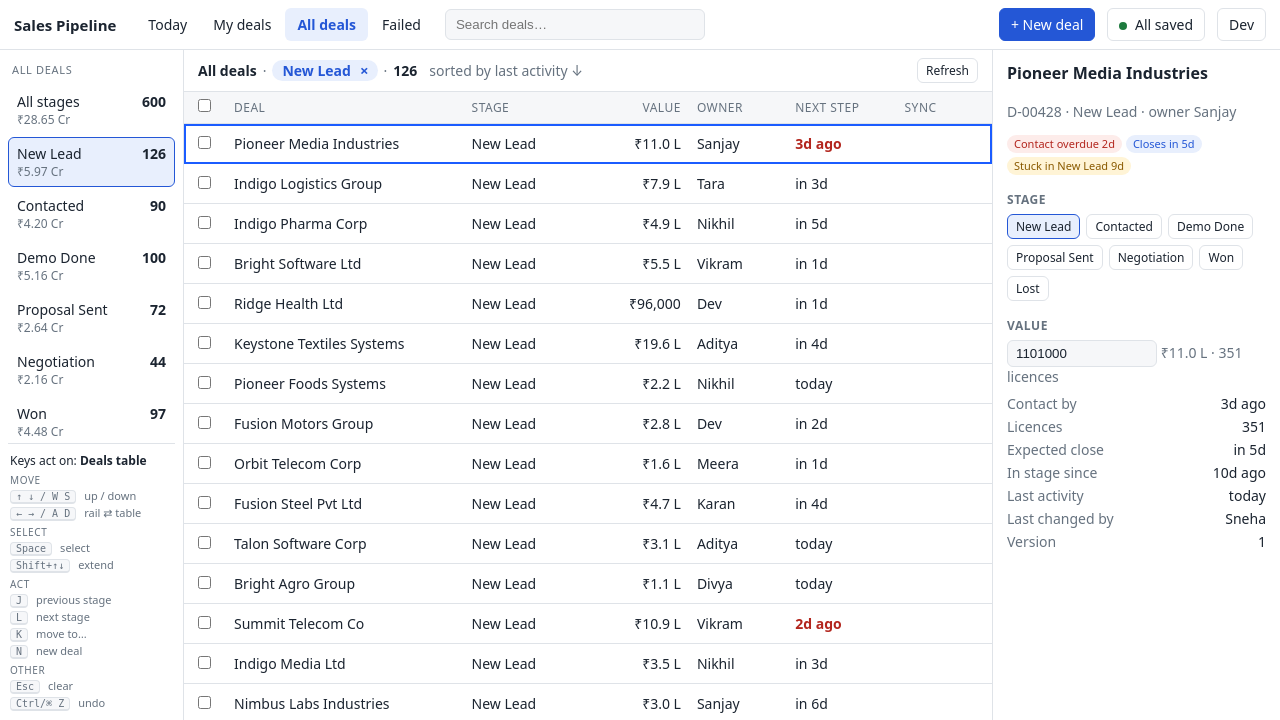
Test case: grid accessibility and keyboard › keys keep working after the mouse › typing "wasd" (and every other shortcut letter) in the search box changes nothing in the table
Click the search field with placeholder "Search deals…": (575, 24) [445,9,705,40]
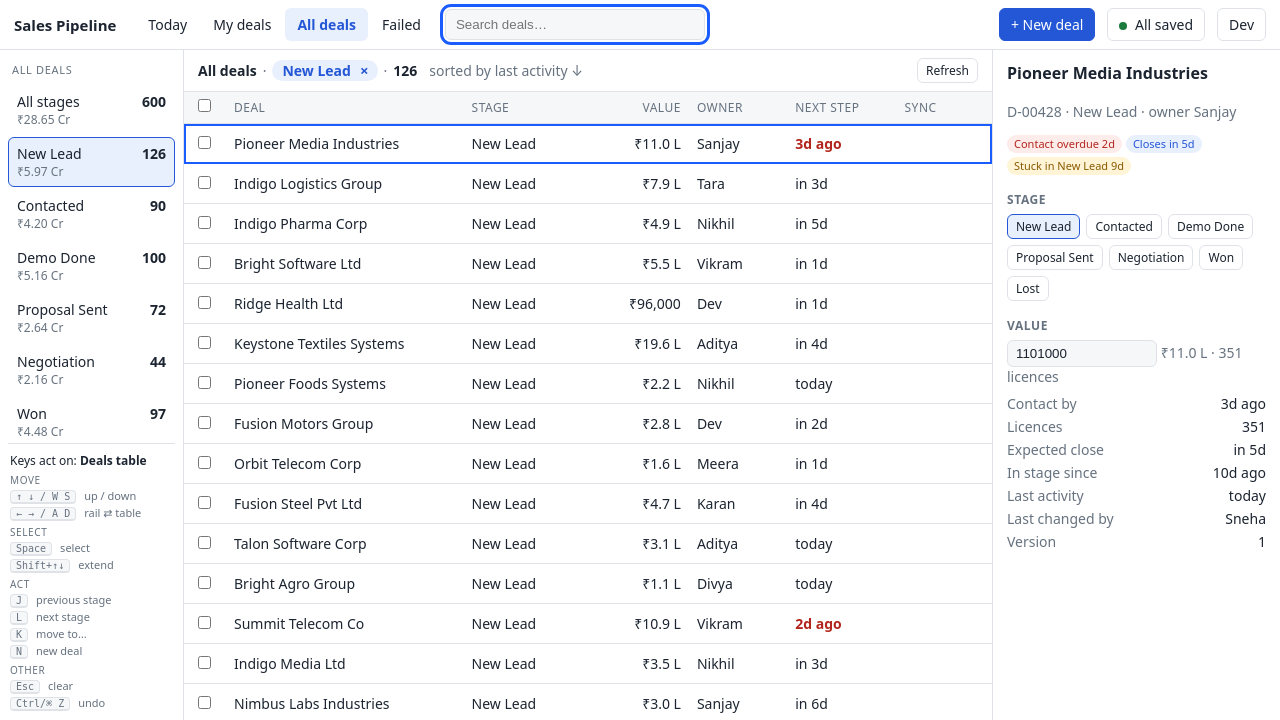
Type keys "wasdnljk "
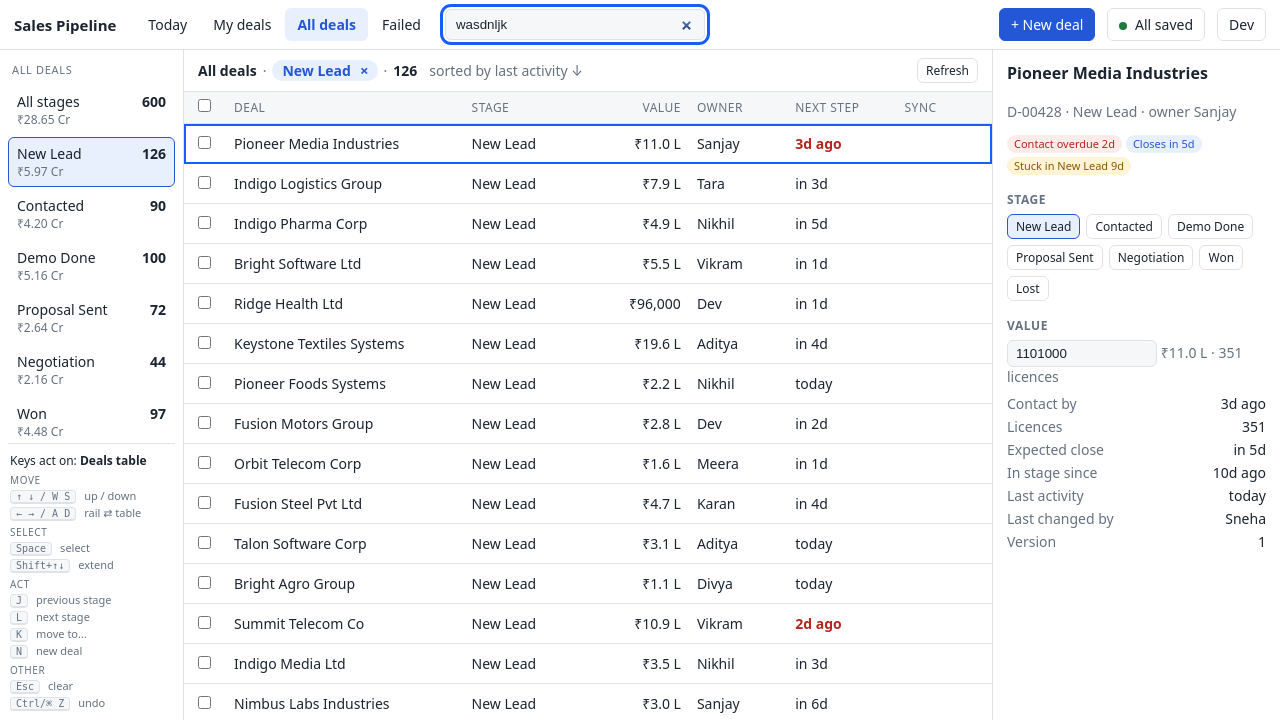
Result: the search field with placeholder "Search deals…" holds "wasdnljk " at [445,9,705,40]
